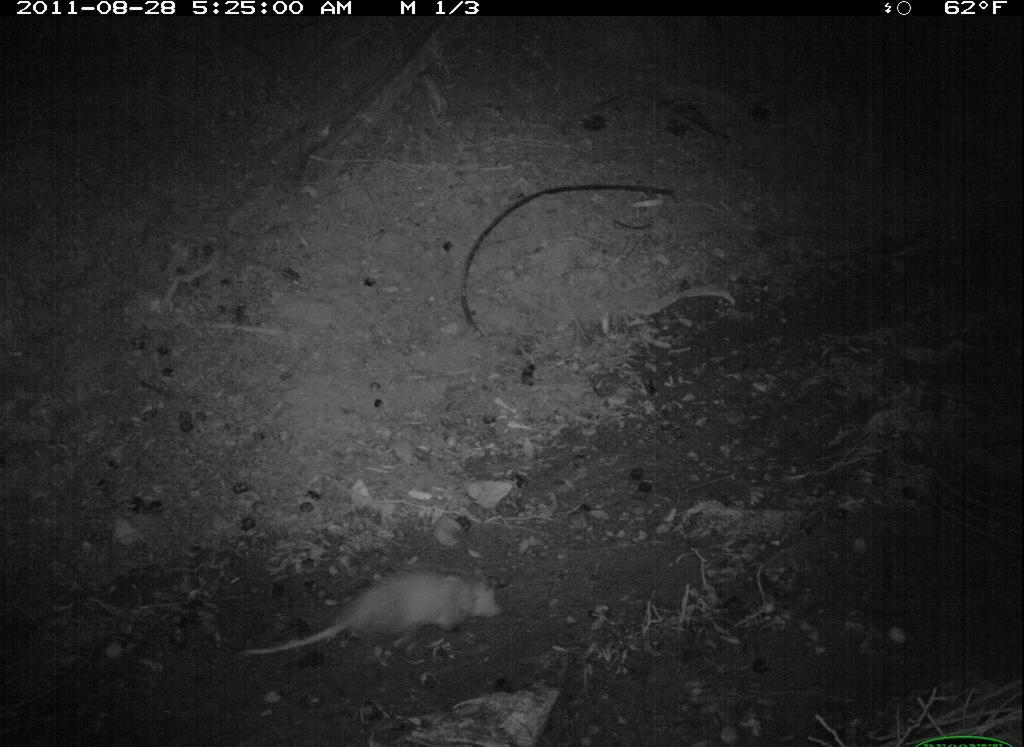opossum: (221, 549, 517, 670)
